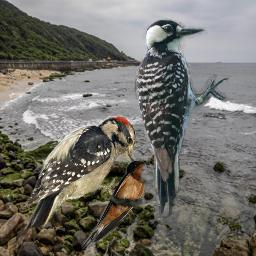Swallow: (79, 158, 149, 249)
Woodpecker: (132, 18, 232, 217), (14, 114, 136, 236)
